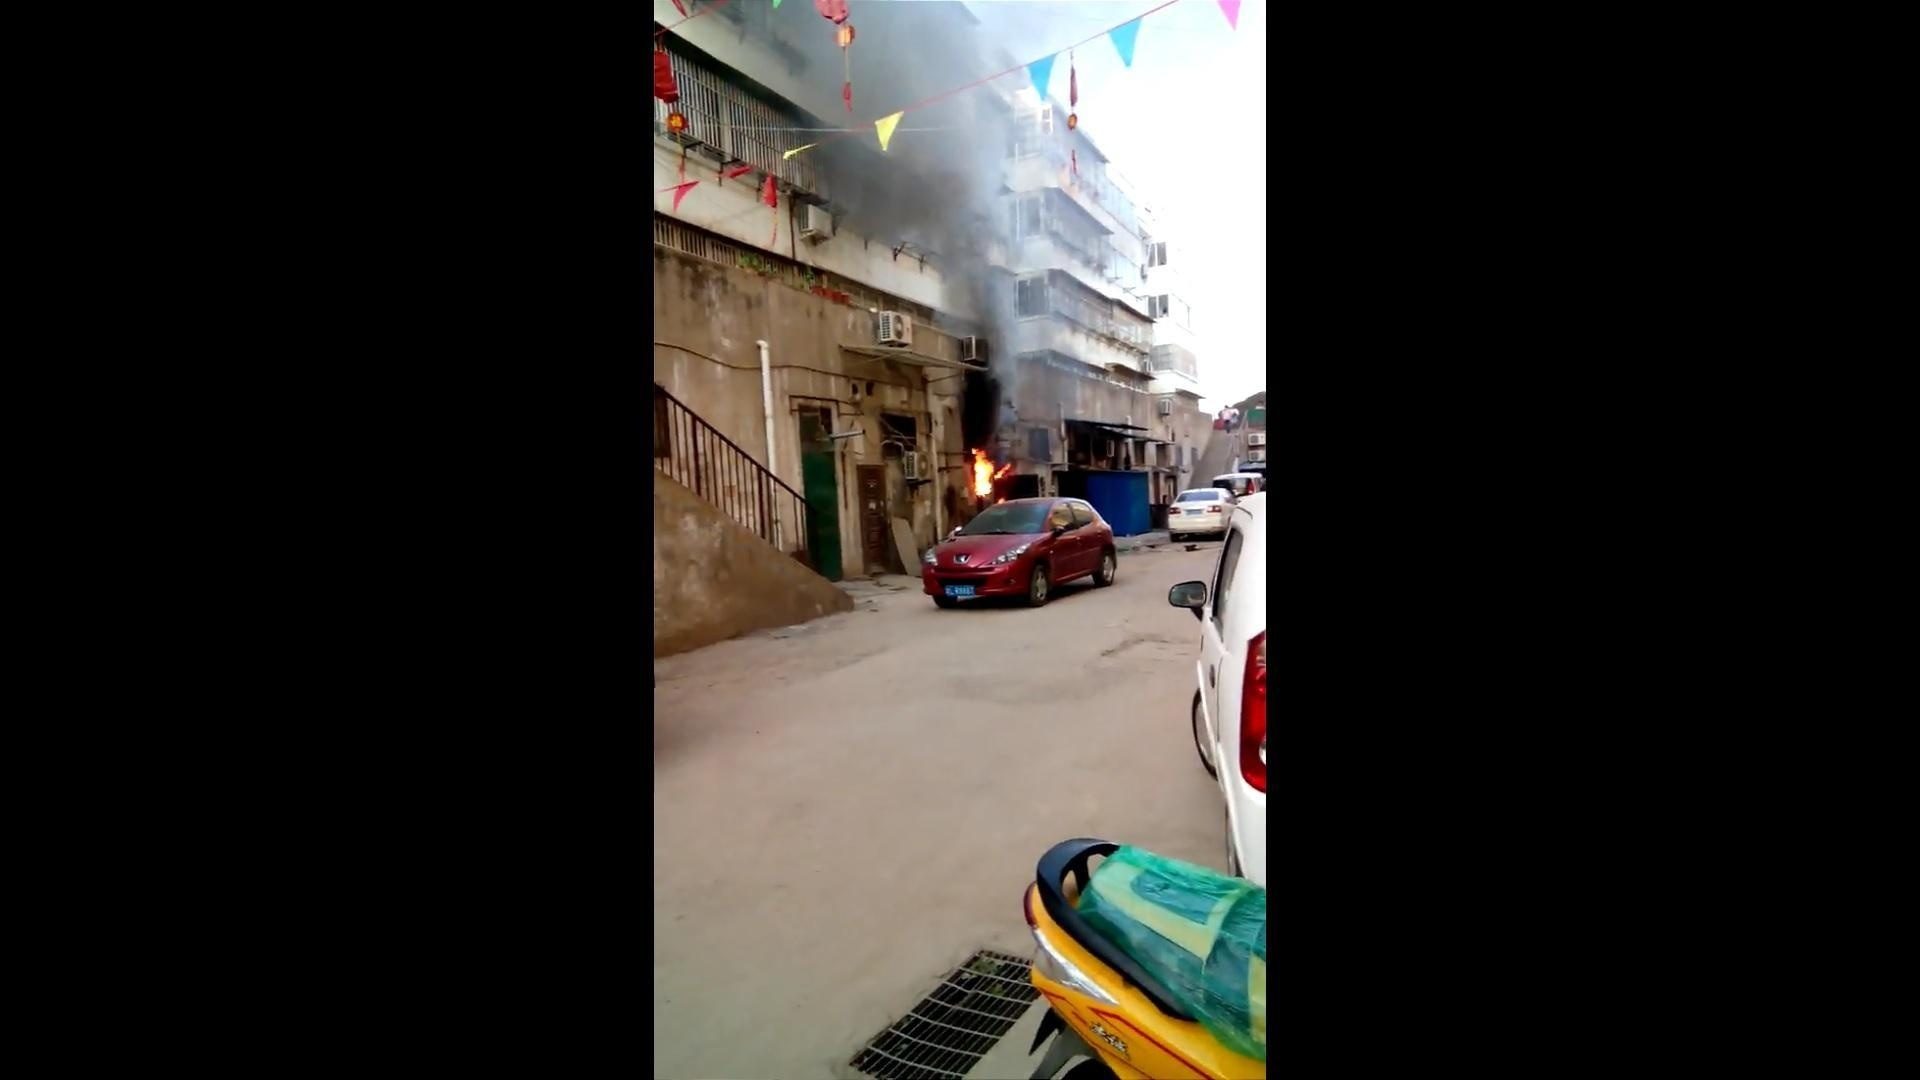fire: (965, 444, 1011, 498)
